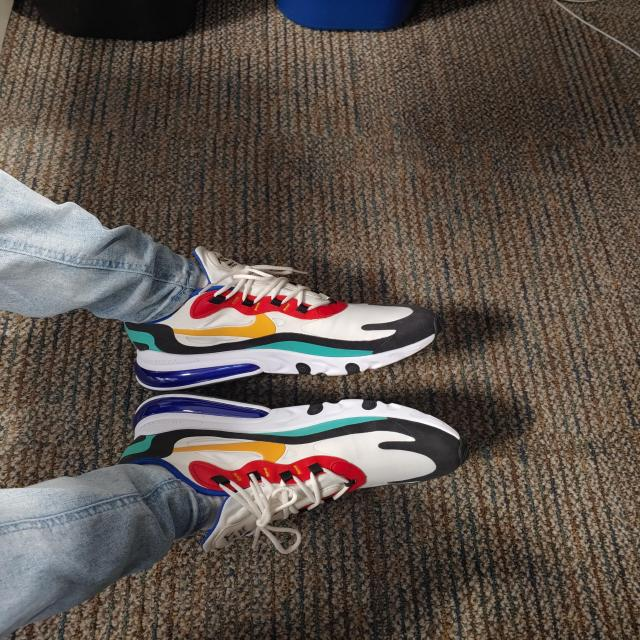shoe: (113, 240, 447, 392), (112, 394, 471, 524)
